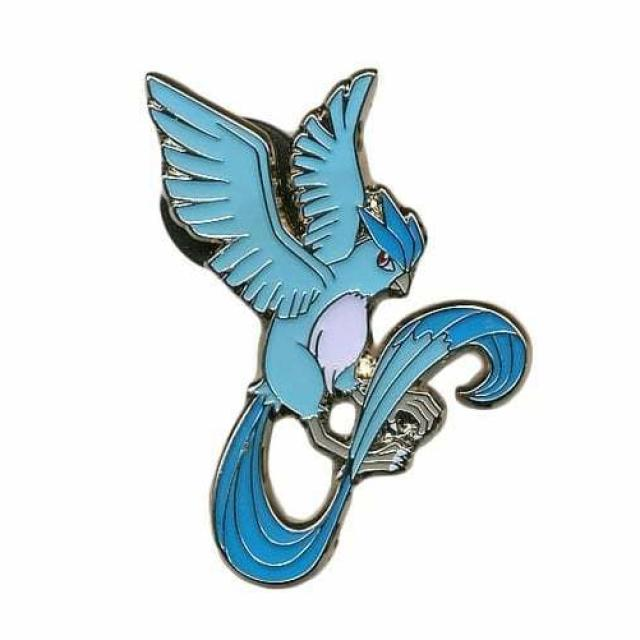Articuno: (137, 59, 538, 601)
